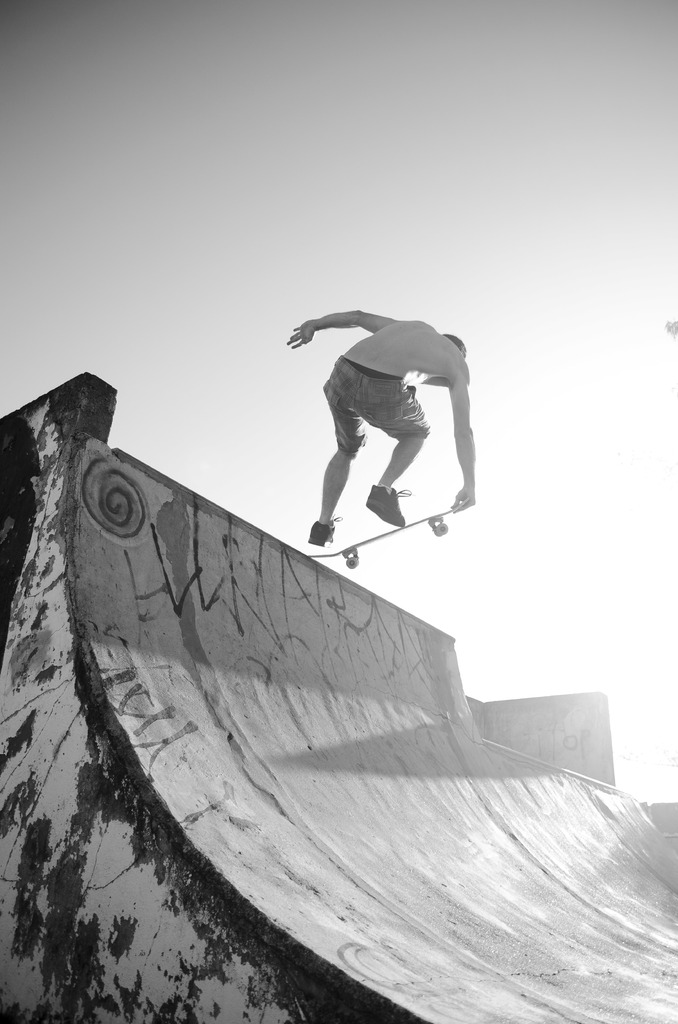person: (286, 306, 476, 548)
